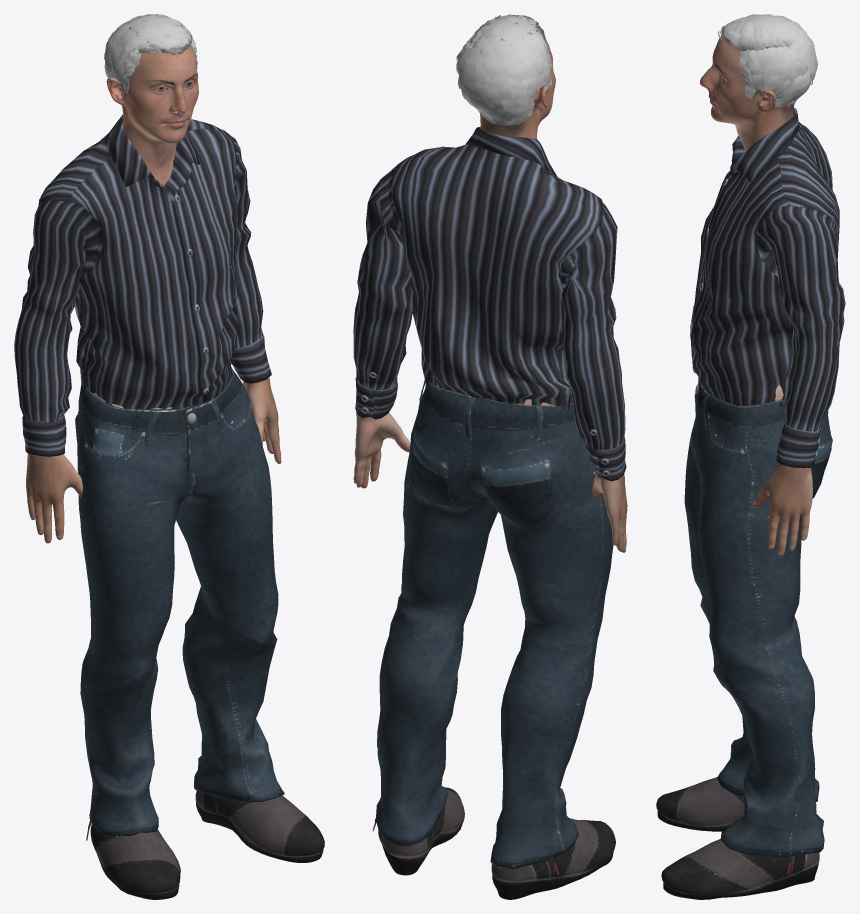
Rendered from m2-idle.obj.
3 views of the same model, side by side, from view 1: azimuth 30°, elevation 25°; view 2: azimuth 150°, elevation 25°; view 3: azimuth 270°, elevation 25° (orthographic). The views are drawn at different scales.
Visible parts, largest first — view 1: Bottoms_Bottomsmesh, Tops_Topsmesh, Body_Bodymesh, Shoes_Shoesmesh, Hair_Hairmesh; view 2: Bottoms_Bottomsmesh, Tops_Topsmesh, Hair_Hairmesh, Shoes_Shoesmesh, Body_Bodymesh; view 3: Bottoms_Bottomsmesh, Tops_Topsmesh, Shoes_Shoesmesh, Body_Bodymesh, Hair_Hairmesh.
Part boxes in pixels (left/top/right/bottom): Bottoms_Bottomsmesh: left=75, top=367, right=284, bottom=836; Tops_Topsmesh: left=14, top=114, right=271, bottom=456; Body_Bodymesh: left=26, top=20, right=281, bottom=543; Shoes_Shoesmesh: left=86, top=790, right=324, bottom=899; Hair_Hairmesh: left=104, top=14, right=198, bottom=93; Bottoms_Bottomsmesh: left=376, top=378, right=613, bottom=869; Tops_Topsmesh: left=353, top=127, right=626, bottom=481; Hair_Hairmesh: left=456, top=14, right=551, bottom=126; Shoes_Shoesmesh: left=372, top=787, right=615, bottom=899; Body_Bodymesh: left=353, top=22, right=627, bottom=552; Bottoms_Bottomsmesh: left=684, top=377, right=832, bottom=857; Tops_Topsmesh: left=690, top=108, right=845, bottom=468; Shoes_Shoesmesh: left=656, top=777, right=819, bottom=899; Body_Bodymesh: left=700, top=35, right=812, bottom=556; Hair_Hairmesh: left=718, top=14, right=817, bottom=108.
Size of the model in its own units: 58.32 by 180 by 37.52.
